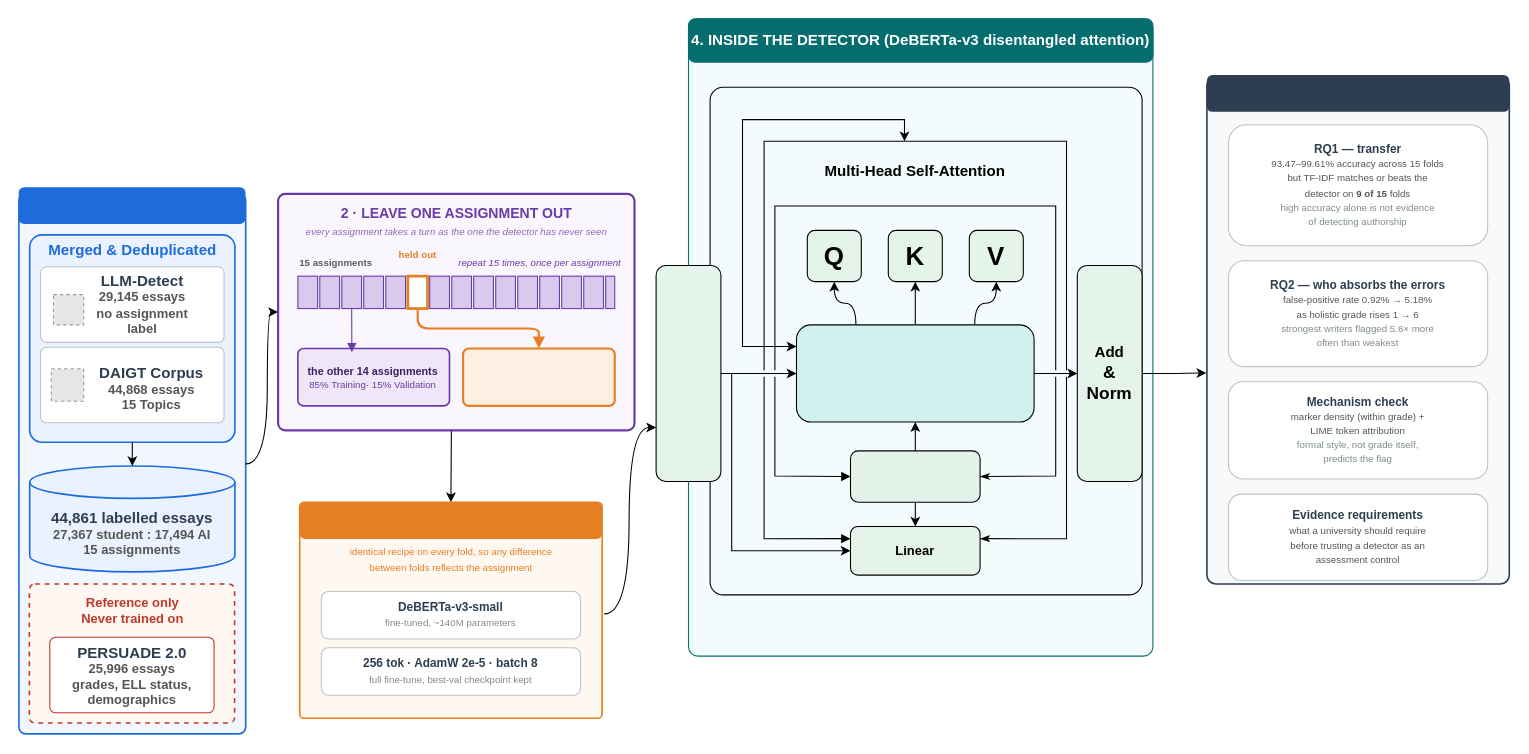
This 1529x754 diagram has some shape labels left out. Grey dashed boxes stand in for pictures. The shapes that lost their labels are listed below. From the top down, each one's centre as x and y in pixels, then its label:
At point (1357, 93): "5. RESULTS".
At point (131, 205): "1. CORPUS".
At point (538, 376): "the withheld assignment opened once, at the end".
At point (688, 372): "Layer Norm".
At point (914, 373): "Scaled Dot-Product Attention".
At point (914, 476): "Concat".
At point (450, 520): "3. DETECTOR".
